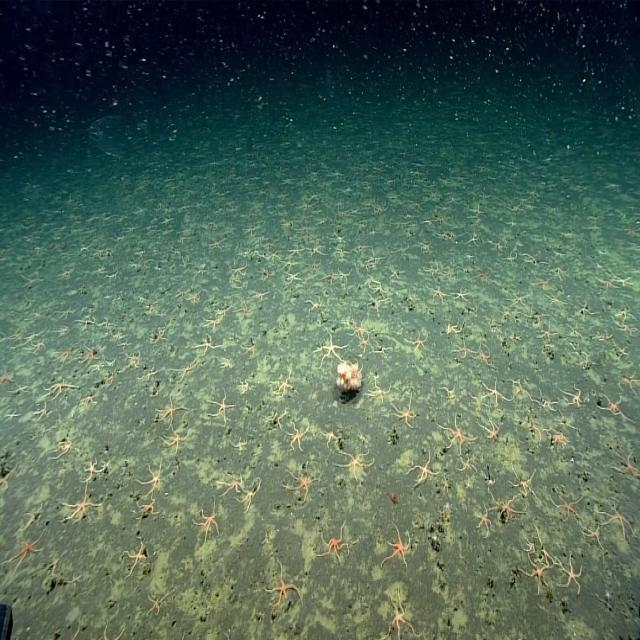brittle-stars: (10, 528, 46, 569), (382, 592, 413, 638), (62, 488, 100, 524), (10, 493, 45, 532), (269, 566, 300, 610), (515, 405, 544, 452), (319, 524, 350, 562), (517, 528, 557, 556), (604, 504, 634, 541), (38, 544, 69, 579), (443, 417, 473, 452), (384, 528, 410, 566), (11, 323, 46, 351), (338, 450, 370, 480), (559, 554, 583, 593), (290, 465, 318, 498), (410, 454, 438, 486), (194, 504, 220, 538), (492, 492, 522, 521), (552, 489, 580, 520), (522, 556, 550, 587), (511, 468, 538, 500), (125, 538, 149, 573), (318, 334, 345, 365), (615, 450, 640, 482), (138, 356, 164, 386), (140, 462, 165, 493), (599, 391, 626, 419), (158, 397, 184, 426), (251, 262, 278, 289), (300, 292, 328, 318), (394, 398, 418, 428), (138, 294, 162, 323), (210, 391, 232, 422), (238, 333, 264, 359), (482, 378, 506, 406), (320, 259, 340, 292), (586, 324, 616, 346), (264, 406, 289, 432), (172, 357, 200, 380), (286, 421, 308, 450), (46, 377, 75, 399), (576, 348, 597, 378), (560, 383, 584, 409), (239, 481, 261, 509), (478, 468, 500, 496), (93, 622, 127, 640), (102, 264, 122, 294), (521, 245, 544, 271), (272, 373, 295, 398), (165, 427, 188, 452), (145, 590, 167, 616), (229, 430, 249, 458), (219, 474, 243, 497), (217, 350, 236, 379), (354, 270, 375, 296), (231, 239, 254, 262), (83, 458, 105, 482), (136, 494, 158, 518), (63, 568, 85, 592), (319, 424, 341, 448), (477, 506, 494, 537), (481, 419, 502, 443), (195, 336, 220, 356), (55, 436, 75, 460), (0, 464, 17, 492), (445, 225, 467, 246), (368, 379, 388, 402), (615, 342, 632, 369), (550, 427, 569, 451), (51, 324, 72, 345), (508, 288, 530, 308), (228, 258, 251, 277), (564, 317, 583, 340), (548, 264, 572, 282), (616, 320, 637, 340), (409, 331, 428, 353), (537, 392, 556, 414), (586, 526, 602, 552), (514, 378, 531, 402), (61, 625, 88, 640), (453, 340, 472, 361), (415, 239, 436, 258), (11, 377, 29, 399), (621, 371, 640, 391), (550, 245, 570, 264), (81, 344, 99, 365), (574, 301, 592, 321), (31, 402, 49, 422), (27, 338, 48, 355), (218, 296, 234, 318), (351, 318, 369, 337), (55, 346, 74, 364), (504, 247, 522, 266), (152, 325, 169, 345), (0, 368, 15, 390), (445, 318, 463, 336), (458, 455, 476, 473), (4, 408, 22, 426), (58, 304, 76, 322), (538, 323, 555, 342), (369, 294, 388, 311), (77, 313, 94, 332), (434, 225, 450, 245), (478, 344, 492, 366), (101, 371, 117, 390), (424, 263, 441, 280), (597, 276, 615, 292), (174, 282, 190, 300), (83, 391, 99, 408), (476, 268, 492, 285), (203, 314, 220, 330), (549, 292, 566, 308), (285, 270, 301, 286), (534, 275, 550, 291), (393, 242, 409, 258), (388, 265, 403, 282), (430, 285, 445, 302), (210, 236, 224, 254), (238, 302, 252, 320), (615, 274, 633, 288), (128, 352, 142, 370), (453, 286, 468, 302), (334, 246, 350, 261), (489, 238, 504, 254), (93, 358, 108, 374), (254, 288, 271, 302), (224, 274, 241, 288), (267, 247, 282, 262), (337, 269, 352, 284), (174, 631, 199, 640), (186, 289, 200, 305), (99, 316, 113, 332), (499, 307, 513, 323), (466, 232, 479, 249), (288, 244, 302, 259), (373, 282, 387, 297), (358, 336, 371, 352), (444, 266, 457, 282), (240, 378, 252, 395), (310, 244, 324, 258), (106, 354, 120, 368), (283, 256, 297, 270), (334, 232, 348, 246), (432, 213, 445, 227), (309, 260, 321, 275), (443, 477, 453, 495), (411, 200, 424, 212), (360, 260, 372, 273), (303, 274, 313, 288), (464, 250, 475, 262), (113, 329, 123, 341), (119, 339, 128, 351)
